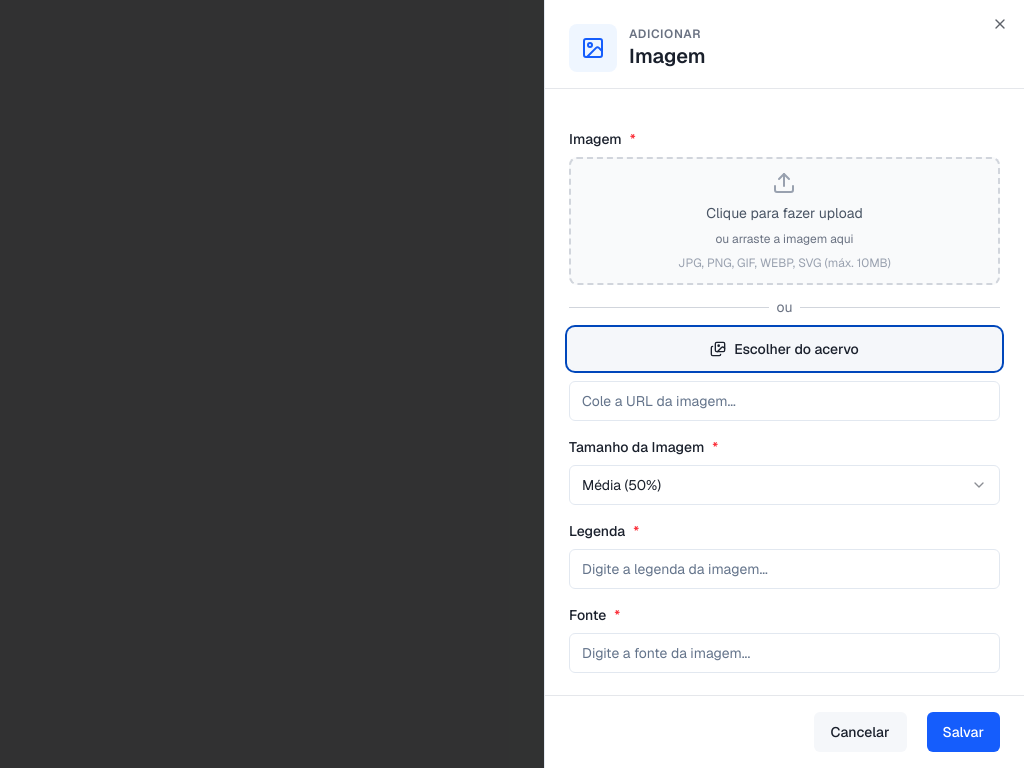
Test: ContentBlockDrawer › fills the image block from the illustration library
Click the button "Escolher do acervo". click: [784, 349]
box: [569,329,1000,369]
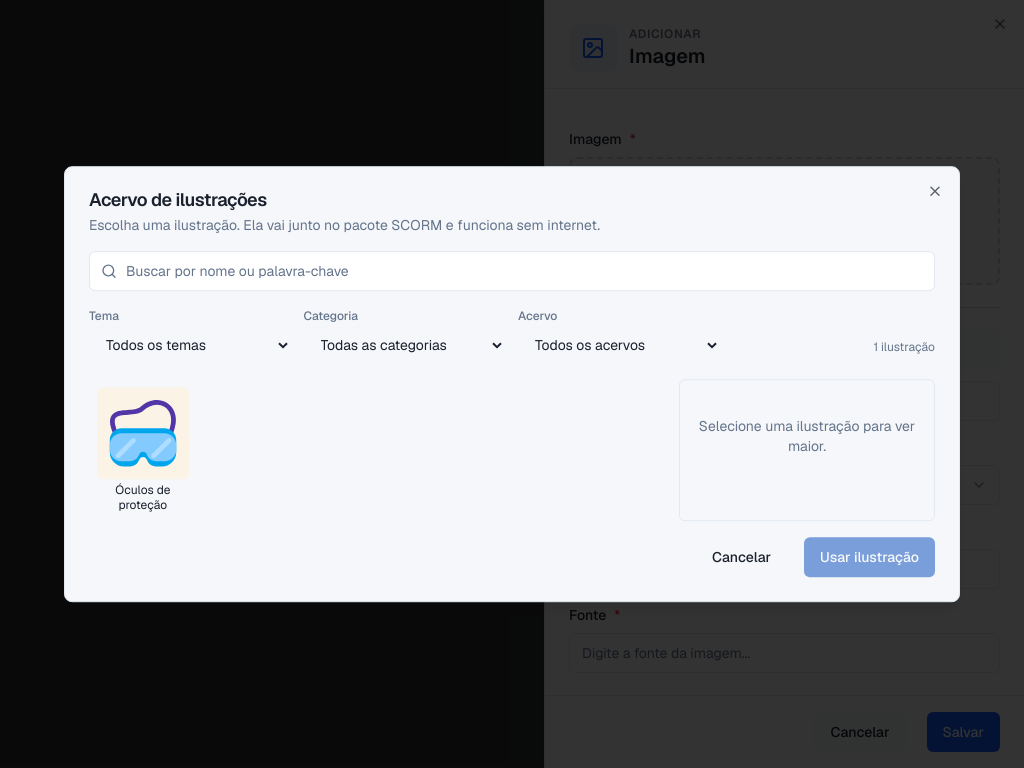
Click the button "Óculos de proteção". click: [143, 450]
box: [89,379,197,521]
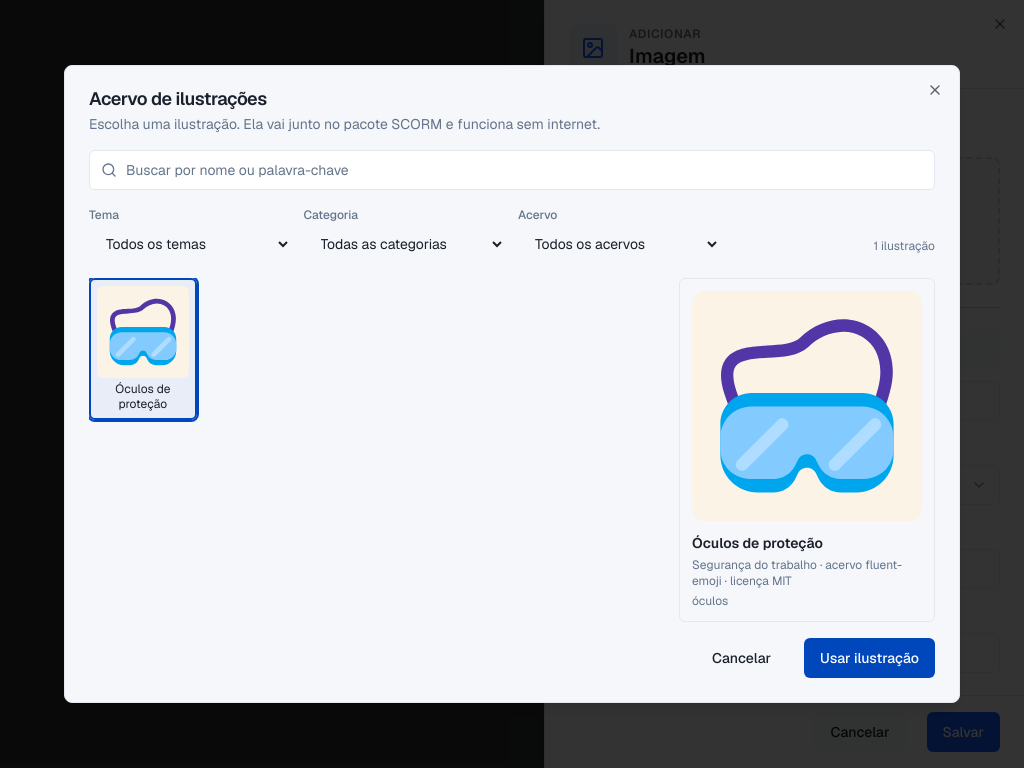
Click the button "Usar ilustração". click: [870, 658]
box: [804,638,935,678]
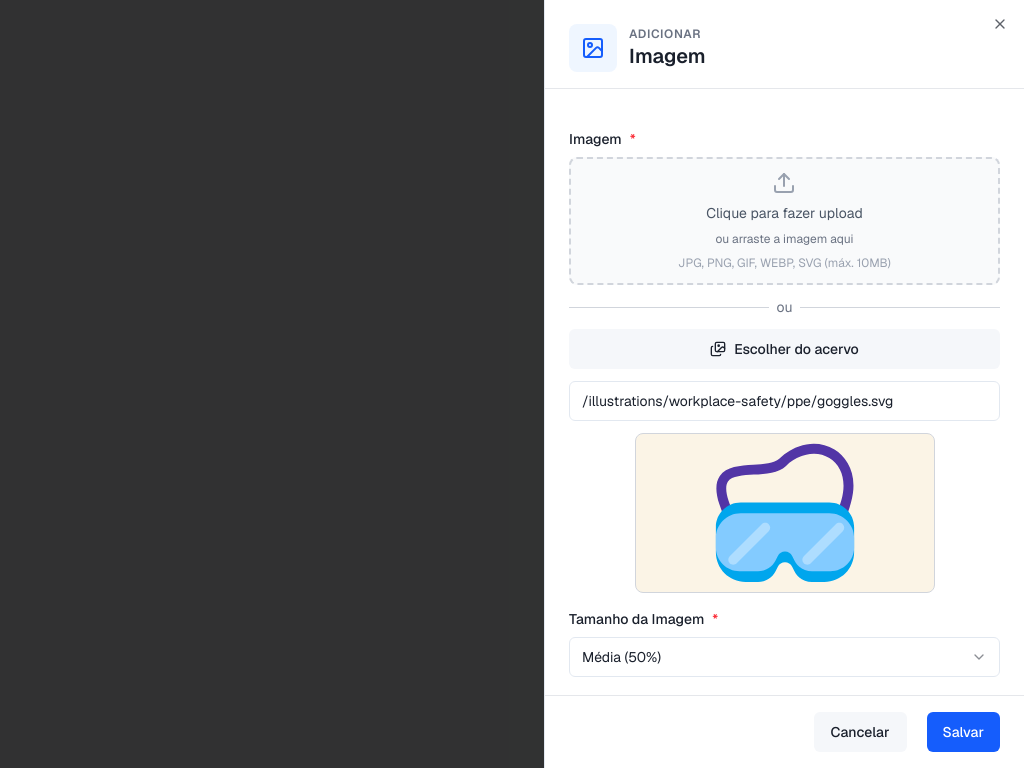
Expected: the field with placeholder "Cole a URL da imagem..." holds "/illustrations/workplace-safety/ppe/goggles.svg", [569,381,1000,421]
